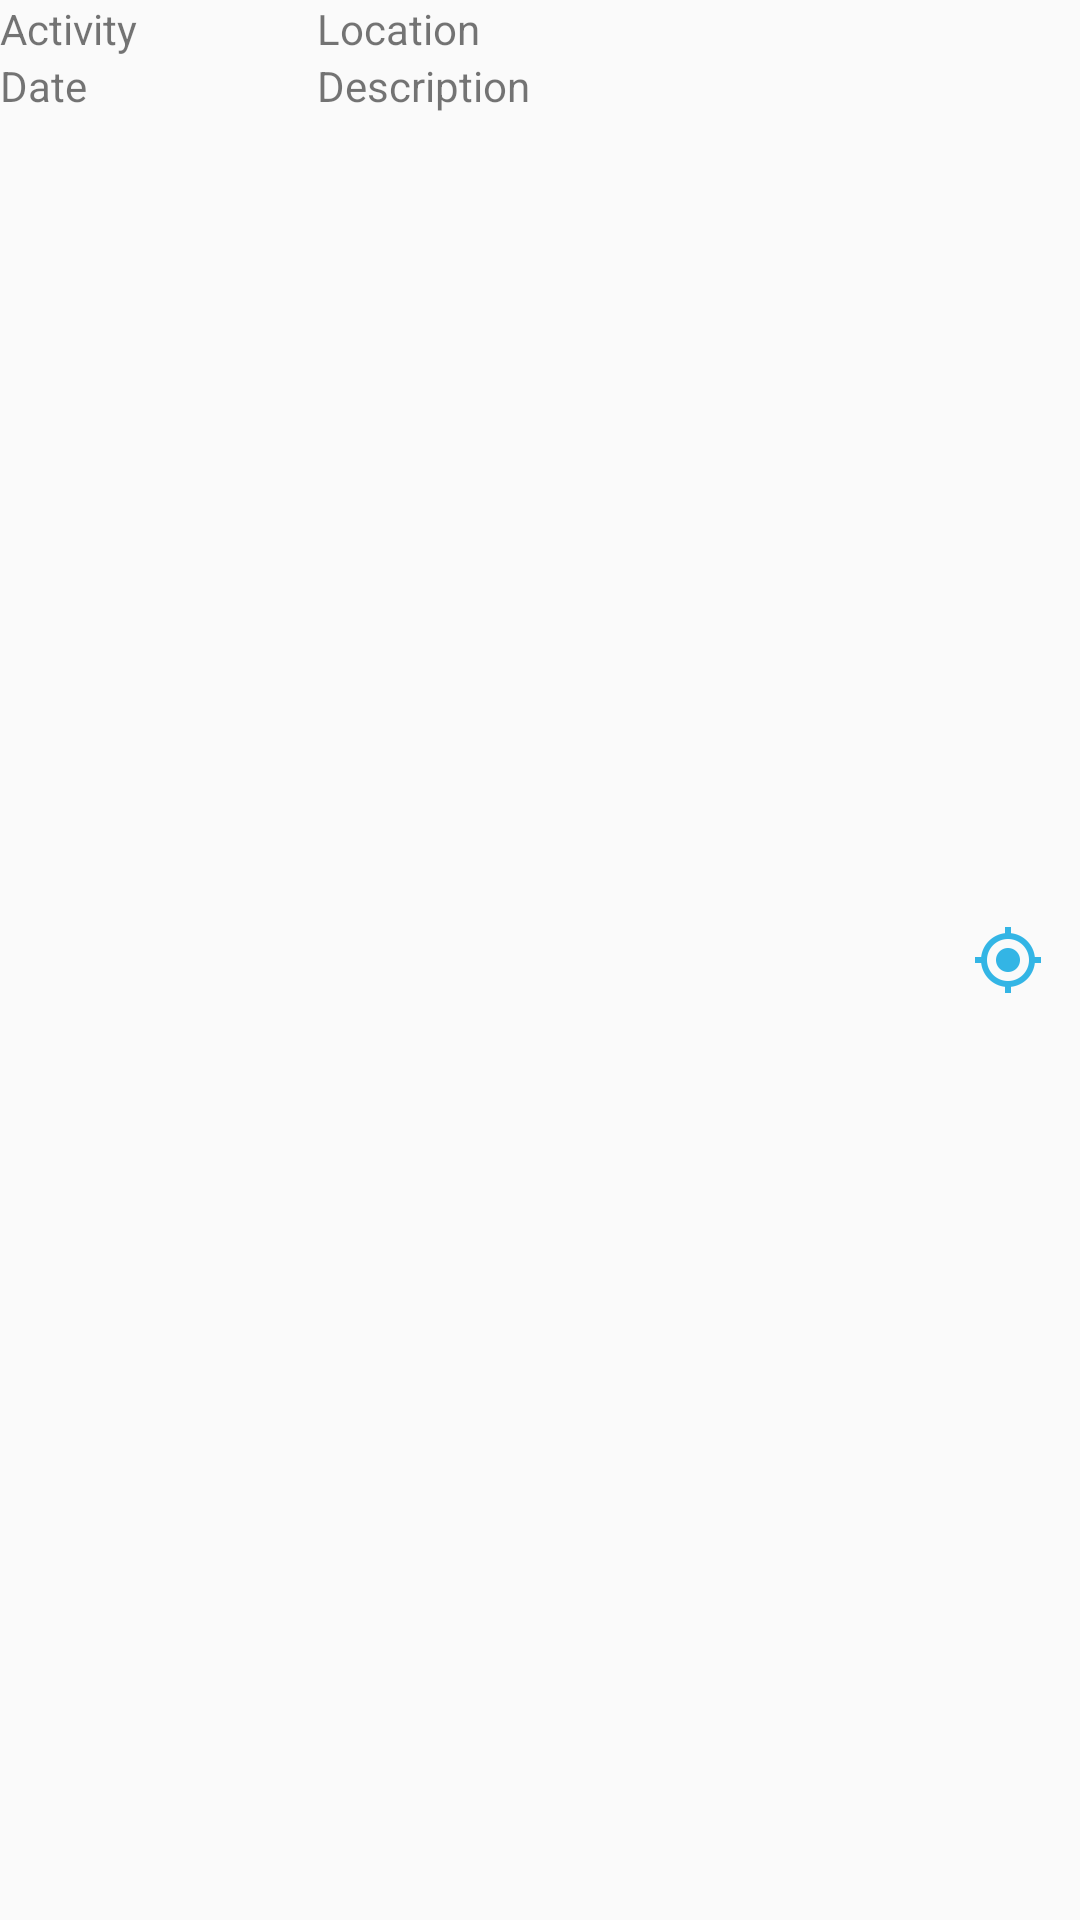

Locate icon controls on the screen. Image size 1080w x 1920h, boxes as [x1, y1, x2, y2].
device gps fixed: [975, 927, 1041, 993]
